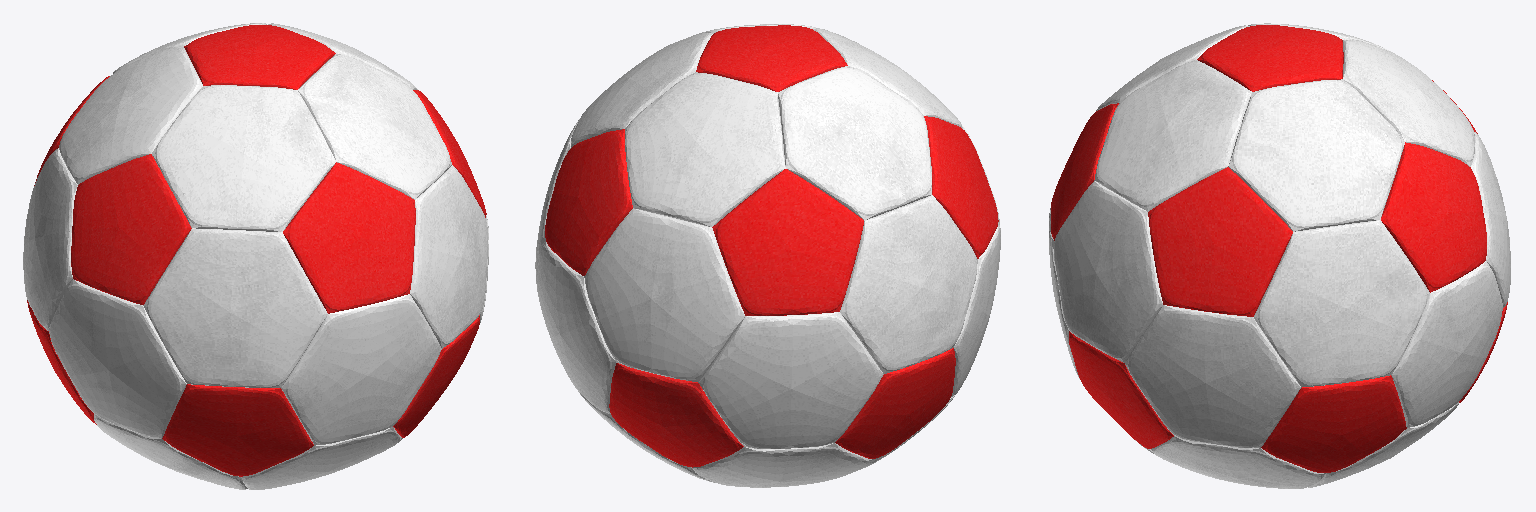
3 renders of one model, left to right at view 1: azimuth 30°, elevation 25°; view 2: azimuth 150°, elevation 25°; view 3: azimuth 270°, elevation 25°, orthographic.
Visible parts, largest first — view 1: Platonic; view 2: Platonic; view 3: Platonic.
Boxes of the visible parts, <box> form: Platonic: <box>23,23,488,489</box>; Platonic: <box>535,24,1000,487</box>; Platonic: <box>1049,23,1510,488</box>.
Bounding box in the file's own units: 20.88 × 20.78 × 20.72.
1 materials, 1 textured.